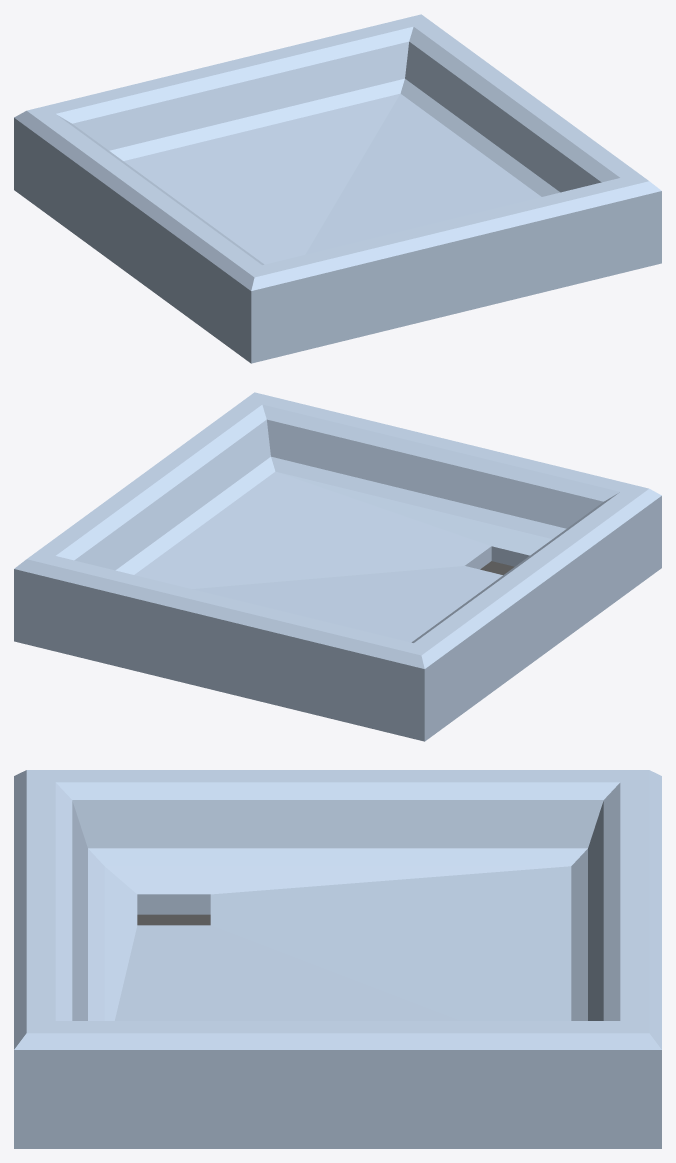
File: showerbottom.fbx
3 renders of one model, top to bottom at view 1: azimuth 30°, elevation 25°; view 2: azimuth 150°, elevation 25°; view 3: azimuth 270°, elevation 25°, orthographic. The views are drawn at different scales.
Parts seen in each view (by area): view 1: Cube.091; view 2: Cube.091; view 3: Cube.091.
Boxes of the visible parts, x1,y1,x2,y2 form: Cube.091: (14, 14, 661, 363); Cube.091: (14, 392, 661, 741); Cube.091: (14, 770, 661, 1148).
Bounding box in the file's own units: 284 × 53.42 × 284.
